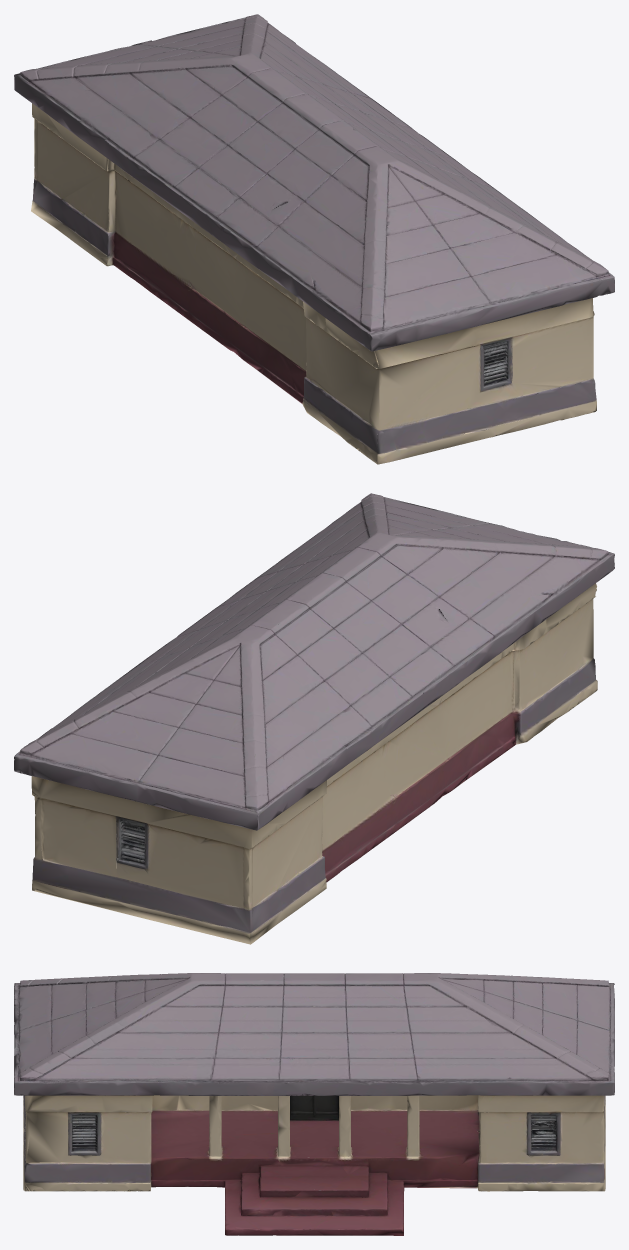
Rendered from SubbammaHouse.glb.
The picture shows the model from 3 angles, top to bottom: view 1: azimuth 30°, elevation 25°; view 2: azimuth 150°, elevation 25°; view 3: azimuth 270°, elevation 25°; orthographic projection. The views are drawn at different scales.
Visible parts, largest first — view 1: tripo_node_a3e63884-4182-492a-b30f-d97abfc7dfd7; view 2: tripo_node_a3e63884-4182-492a-b30f-d97abfc7dfd7; view 3: tripo_node_a3e63884-4182-492a-b30f-d97abfc7dfd7.
Boxes of the visible parts, <box> form: tripo_node_a3e63884-4182-492a-b30f-d97abfc7dfd7: <box>14,14,614,464</box>; tripo_node_a3e63884-4182-492a-b30f-d97abfc7dfd7: <box>14,493,614,944</box>; tripo_node_a3e63884-4182-492a-b30f-d97abfc7dfd7: <box>14,973,614,1235</box>.
Bounding box in the file's own units: 0.5373 × 0.3057 × 0.9809.
1 material, 1 textured.
